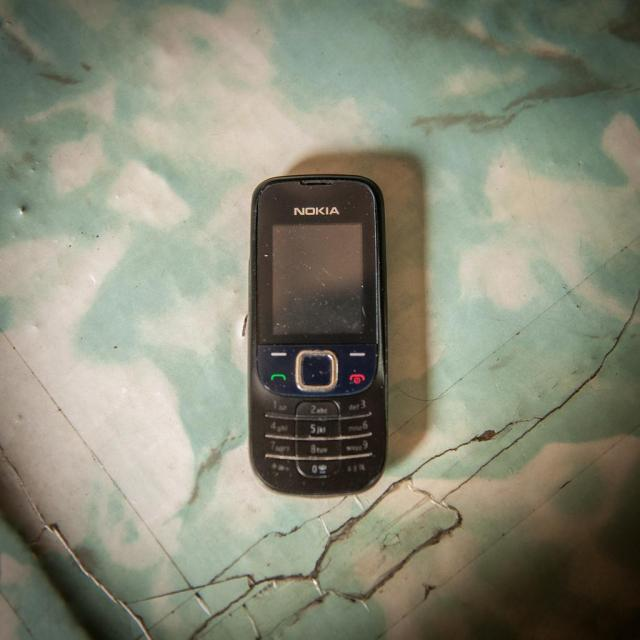Phone: (248, 173, 391, 495)
